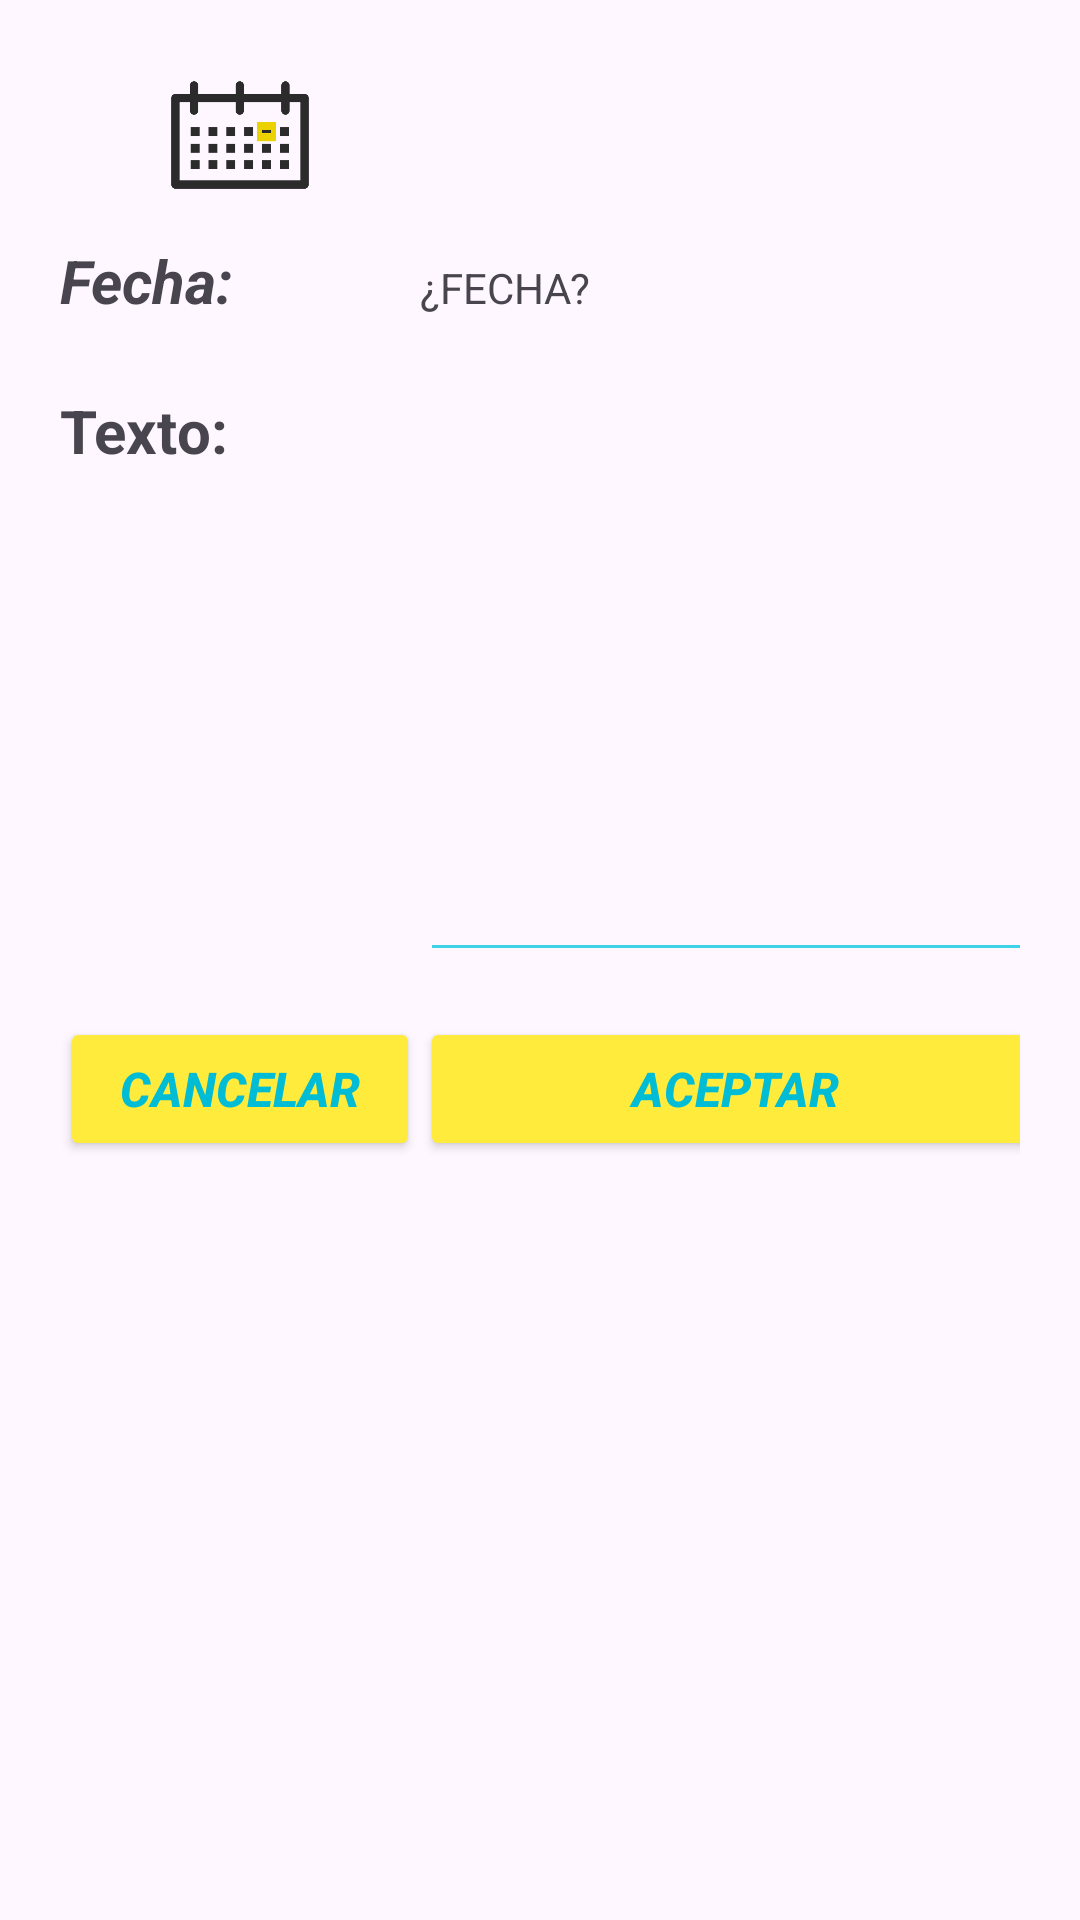

Icon click points for this 1080px×1920px phone screenshot, format (x=x, y=y):
fechita: (x=240, y=135)
